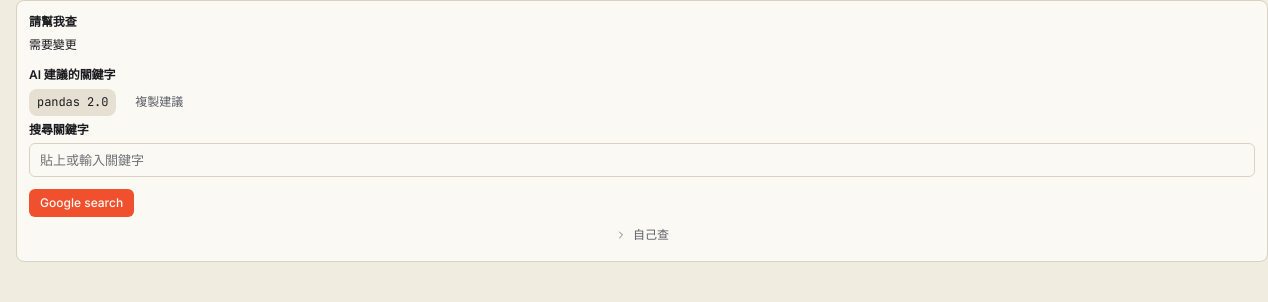
Test: a search, with the helper connected › with nothing typed, 查 hands nothing over and says to type the keywords
The image size is (1268, 302).
Click the button "Google search" at (82, 203), box left=29, top=189, right=134, bottom=217
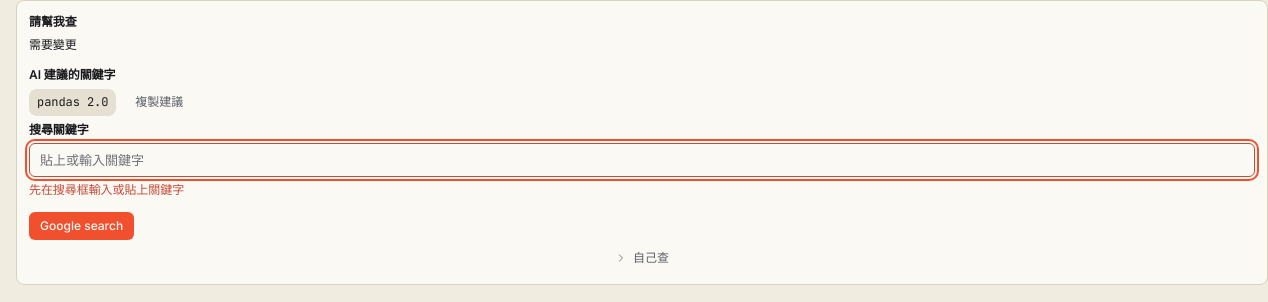
Expected: the text "先在搜尋框輸入或貼上關鍵字" is shown, left=29, top=182, right=184, bottom=197
